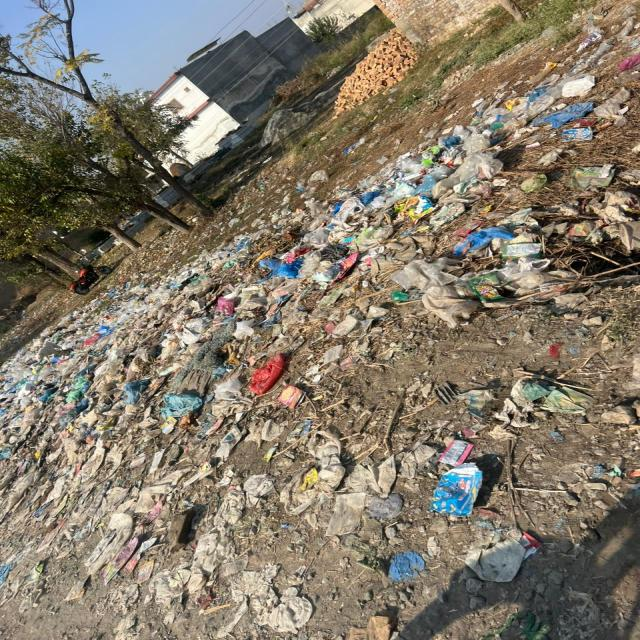garbage: (41, 60, 639, 337), (0, 348, 559, 563)
